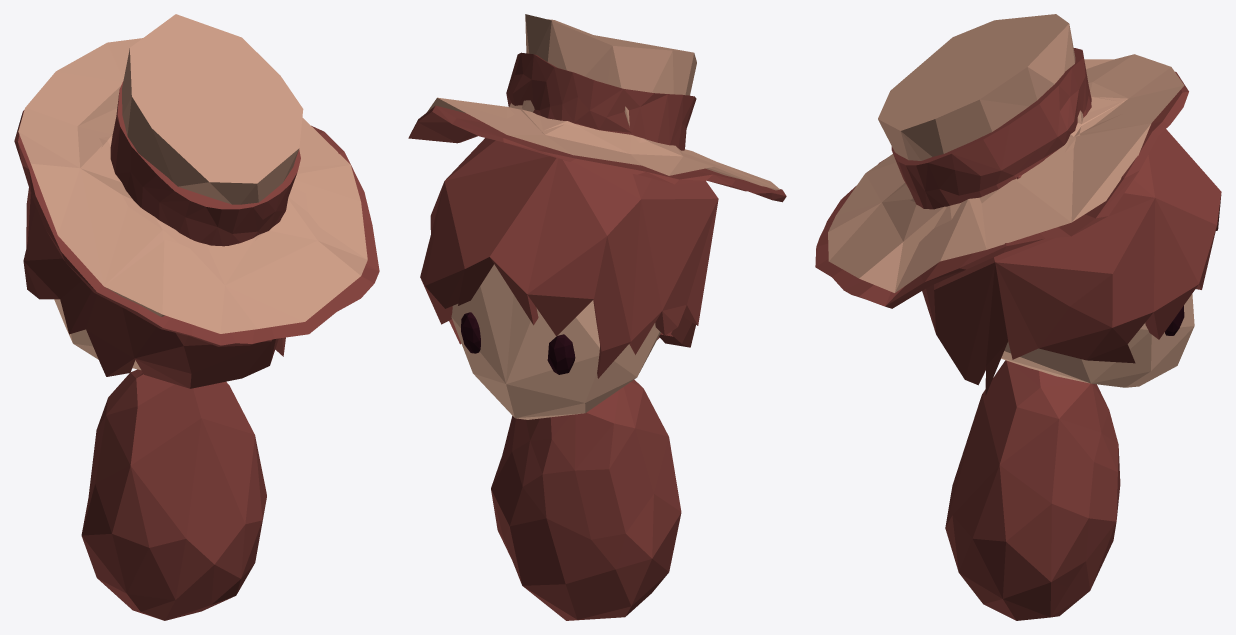
File: char.fbx
3 renders of one model, left to right at view 1: azimuth 30°, elevation 25°; view 2: azimuth 150°, elevation 25°; view 3: azimuth 270°, elevation 25°, orthographic. The views are drawn at different scales.
Visible parts, largest first — view 1: Hat, Body, Hat band, Hair, Head; view 2: Hair, Body, Hat, Head, Hat band, Eyes; view 3: Hat, Hair, Body, Hat band, Head.
Boxes of the visible parts, box(x1,y1,x2,y2) form: Hat: box(18, 14, 367, 333); Body: box(81, 369, 266, 620); Hat band: box(14, 81, 379, 346); Hair: box(23, 188, 285, 388); Head: box(54, 299, 140, 369); Hair: box(420, 138, 718, 378); Body: box(491, 379, 681, 620); Hat: box(427, 14, 779, 190); Head: box(451, 264, 660, 419); Hat band: box(408, 52, 786, 202); Eyes: box(461, 312, 575, 374); Hat: box(828, 14, 1184, 292); Hair: box(922, 129, 1221, 395); Body: box(945, 360, 1120, 620); Hat band: box(815, 48, 1188, 308); Head: box(1001, 294, 1194, 387).
Bounding box in the file's own units: 187 × 345 × 212.
